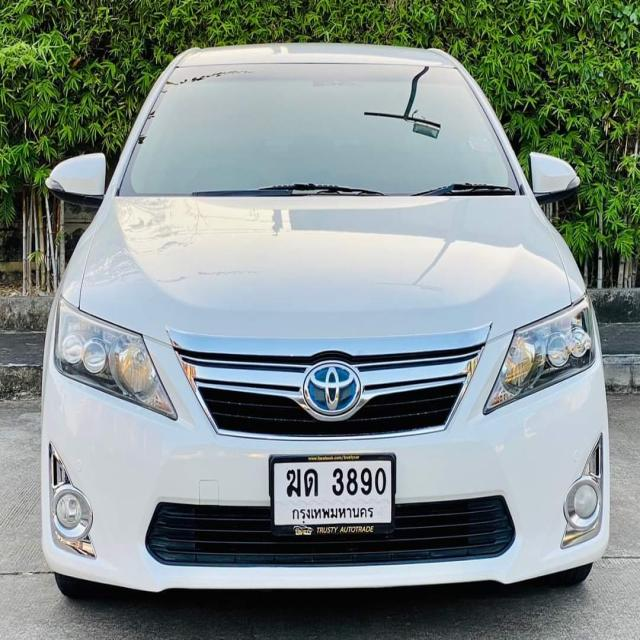license_plate: (271, 455, 398, 535)
